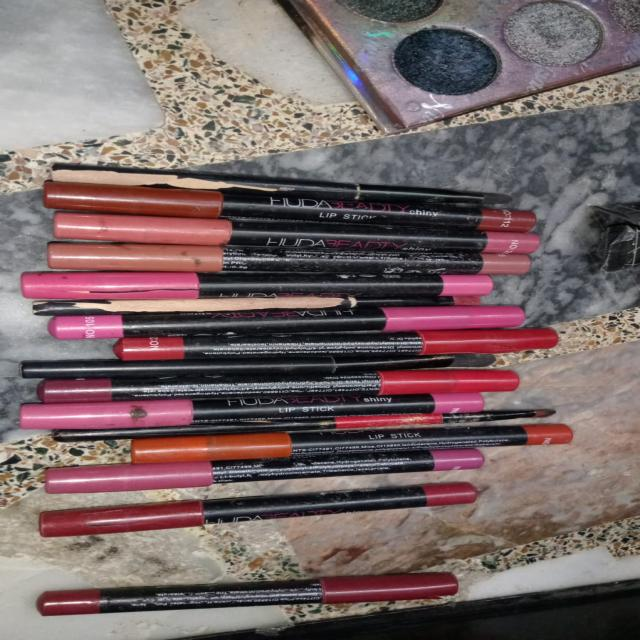lip liner: (15, 130, 584, 640)
